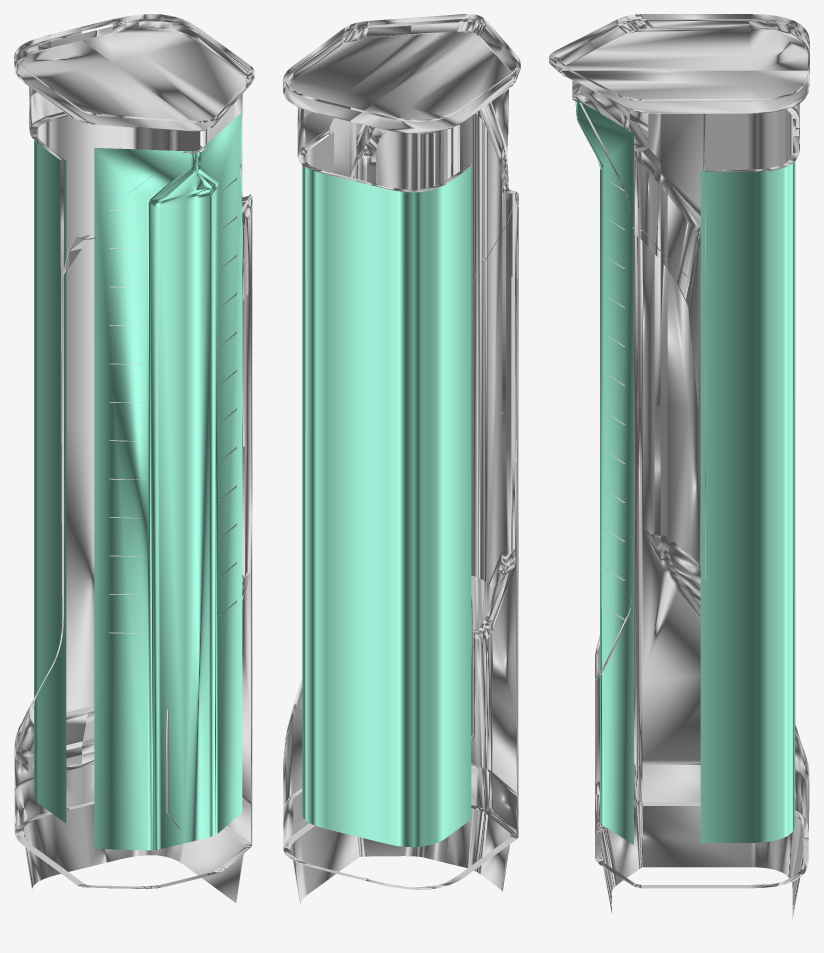
The model's file is building_550m_002_a.glb.
3 renders of one model, left to right at view 1: azimuth 30°, elevation 25°; view 2: azimuth 150°, elevation 25°; view 3: azimuth 270°, elevation 25°, orthographic. The views are drawn at different scales.
Bounding box in the file's own units: 111 × 509 × 142.
